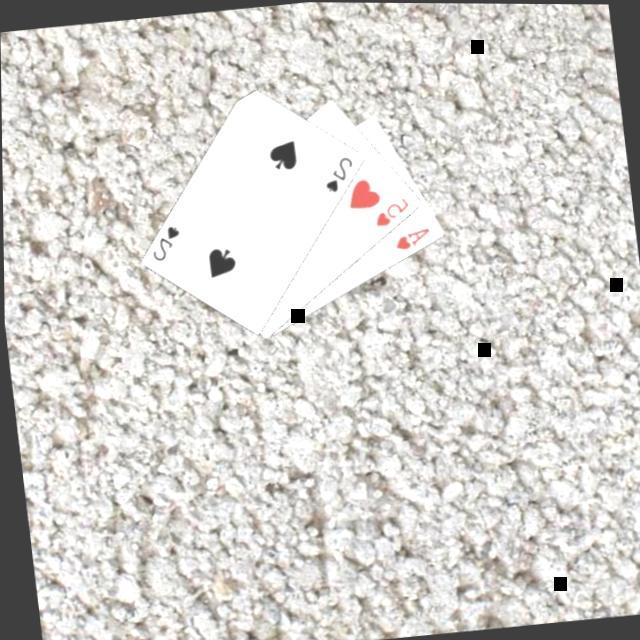2S: (316, 150, 357, 194), (143, 220, 184, 264)
5H: (366, 191, 412, 229)
AH: (388, 222, 432, 252)
